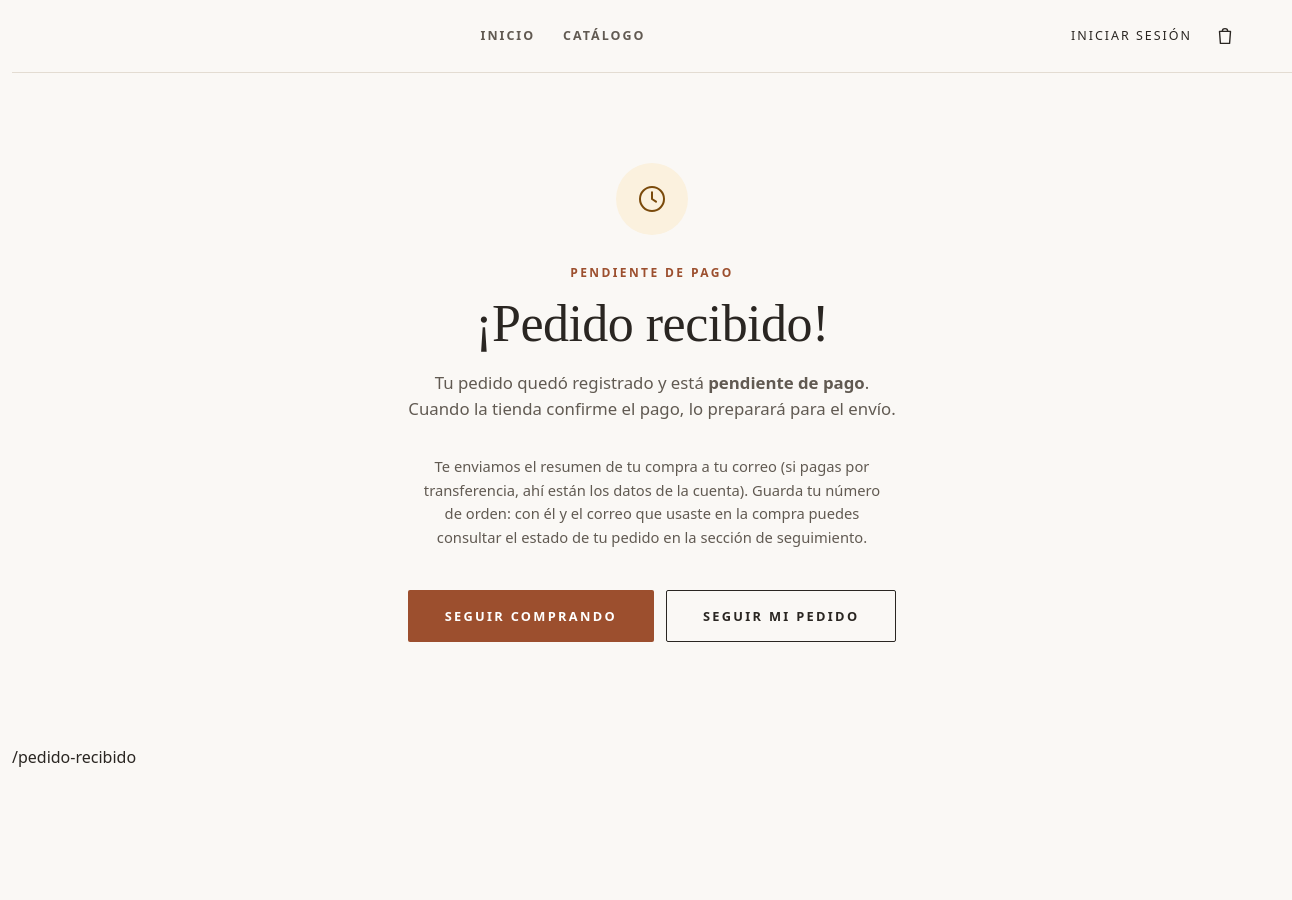
Test: PedidoRecibido › debe navegar al catálogo al presionar seguir comprando
Click the button "Seguir comprando": [531, 616] box [408,590,654,642]
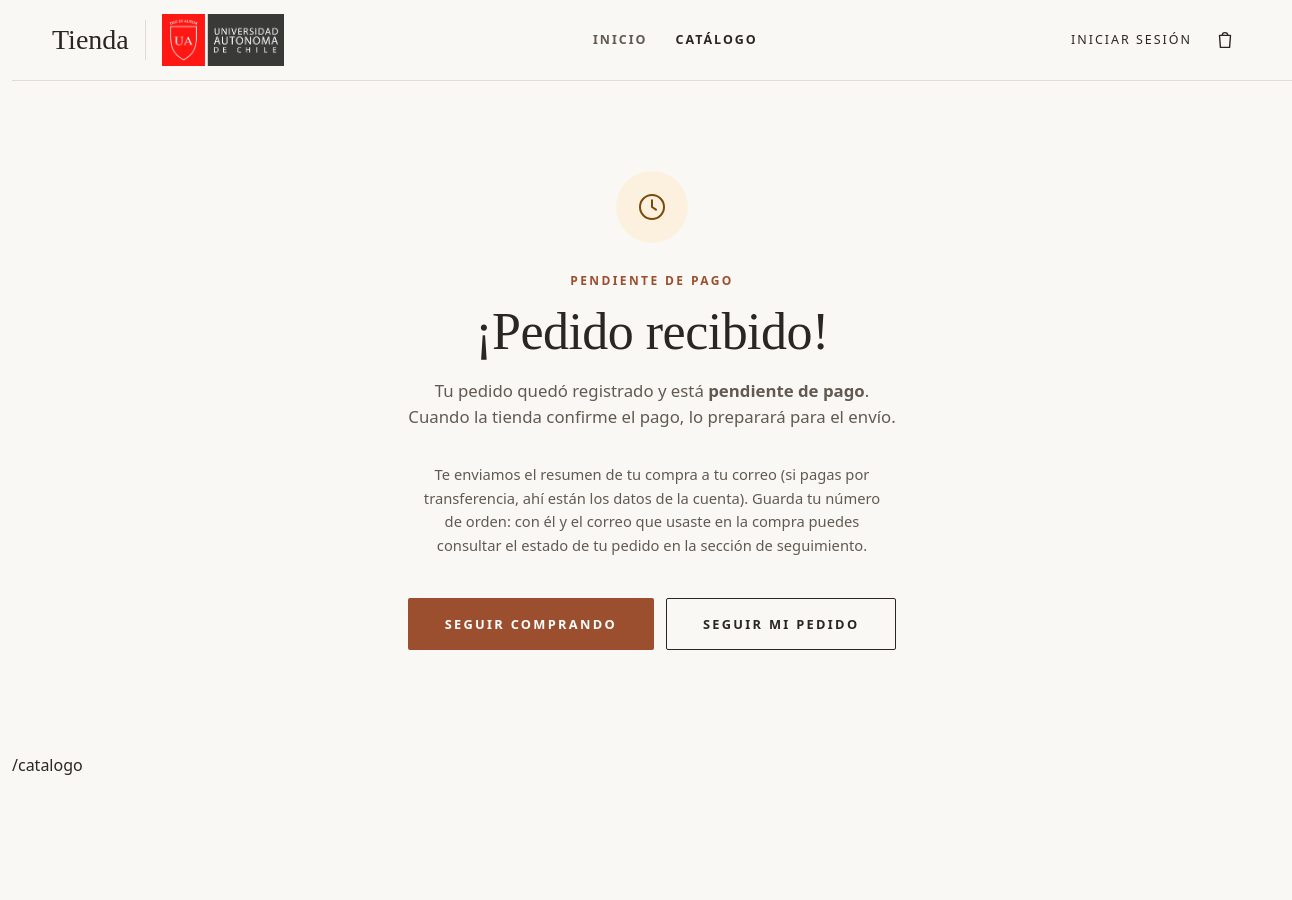
Expected: the text with test id "location" reads "/catalogo", [12,754,83,776]
